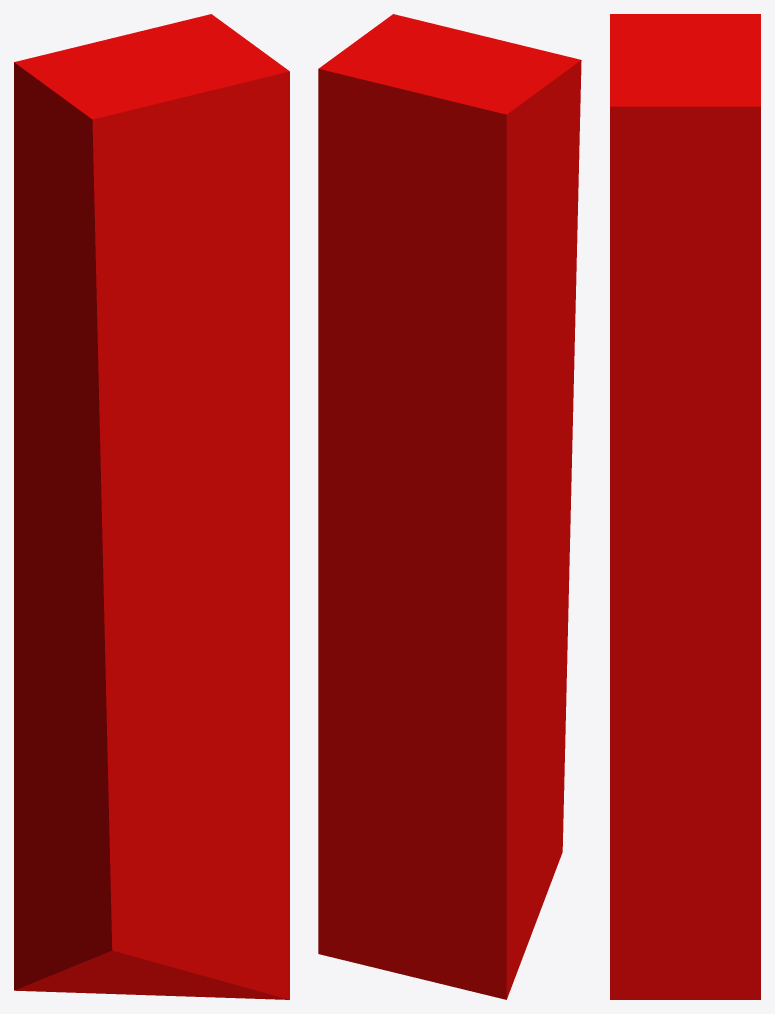
The model's file is SM_Sign_3dText_Letter_I.obj.
3 renders of one model, left to right at view 1: azimuth 30°, elevation 25°; view 2: azimuth 150°, elevation 25°; view 3: azimuth 270°, elevation 25°, orthographic. The views are drawn at different scales.
Visible parts, largest first — view 1: SM_Sign_3dText_Letter_I_0; view 2: SM_Sign_3dText_Letter_I_0; view 3: SM_Sign_3dText_Letter_I_0.
Boxes of the visible parts, <box> form: SM_Sign_3dText_Letter_I_0: <box>14,14,289,999</box>; SM_Sign_3dText_Letter_I_0: <box>318,14,581,999</box>; SM_Sign_3dText_Letter_I_0: <box>610,14,760,999</box>.
Size of the model in its own units: 0.1589 by 0.7139 by 0.1093.
Materials: 1 (1 with a texture image).
